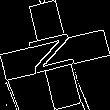N_E: (26, 30, 84, 80)
